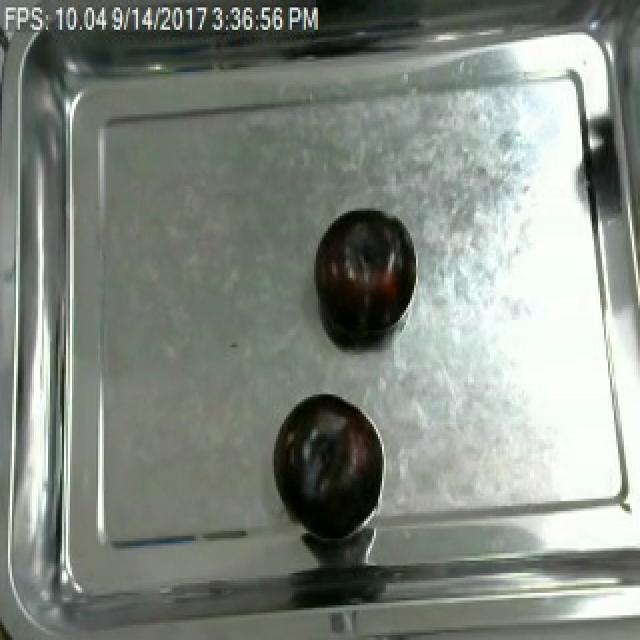Fruit: (270, 387, 384, 543), (308, 203, 416, 350)
